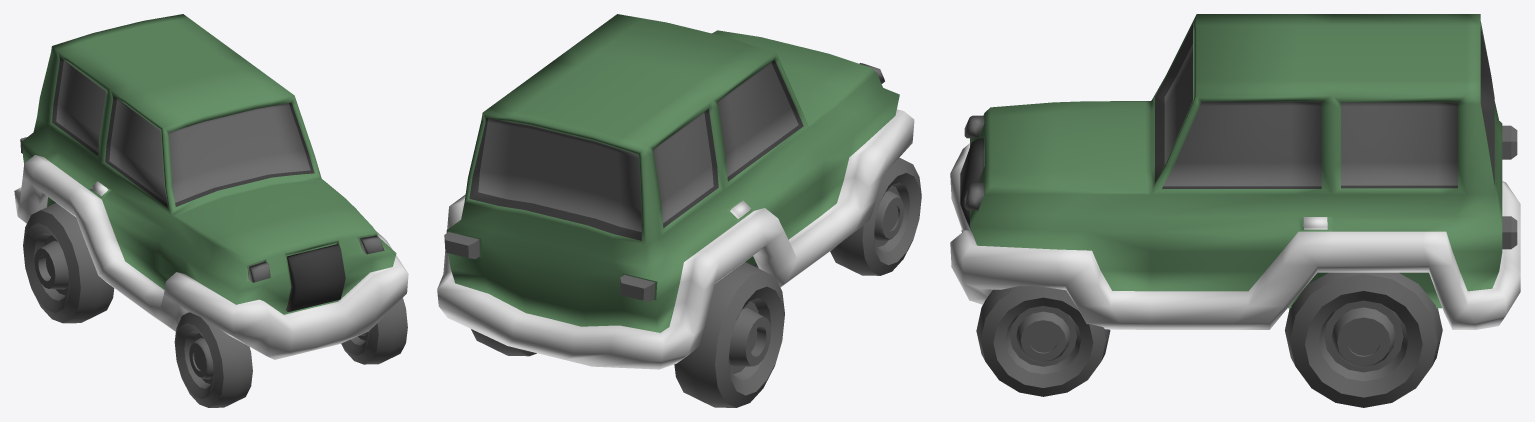
File: GreenCar_venz.fbx
3 views of the same model, side by side, from view 1: azimuth 30°, elevation 25°; view 2: azimuth 150°, elevation 25°; view 3: azimuth 270°, elevation 25° (orthographic). The views are drawn at different scales.
Visible parts, largest first — view 1: Greencar_venz; view 2: Greencar_venz; view 3: Greencar_venz.
Boxes of the visible parts, x1=… form: Greencar_venz: x1=14, y1=14, x2=408, y2=407; Greencar_venz: x1=437, y1=14, x2=921, y2=407; Greencar_venz: x1=950, y1=14, x2=1520, y2=407.
Size of the model in its own units: 182 by 183 by 313.
